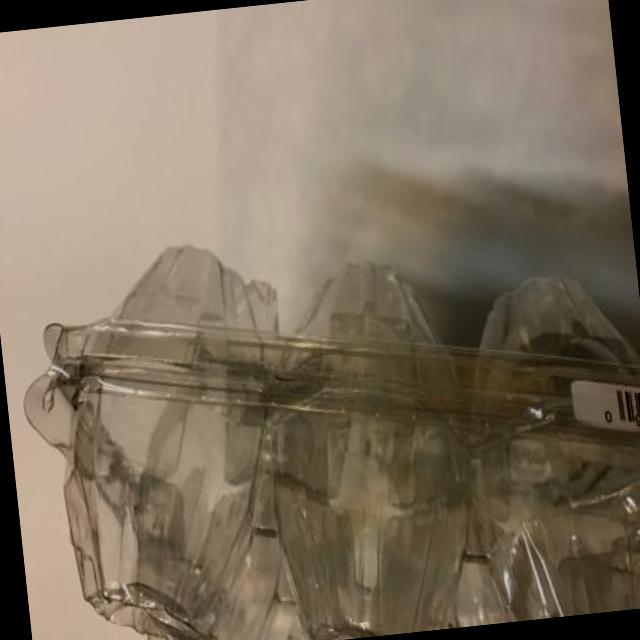Trash: (4, 168, 640, 640)
